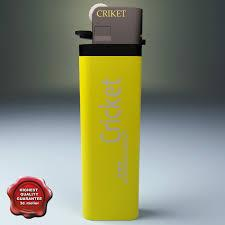lighter: (77, 3, 142, 225)
